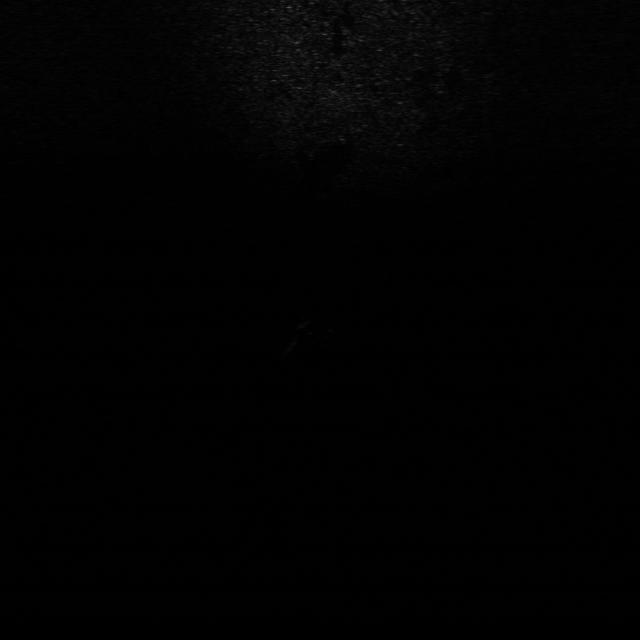human body: (289, 318, 347, 366)
